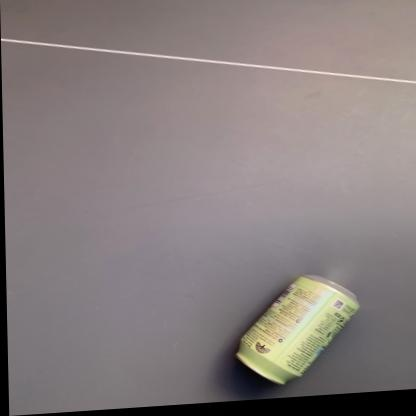trash: (236, 275, 358, 383)
